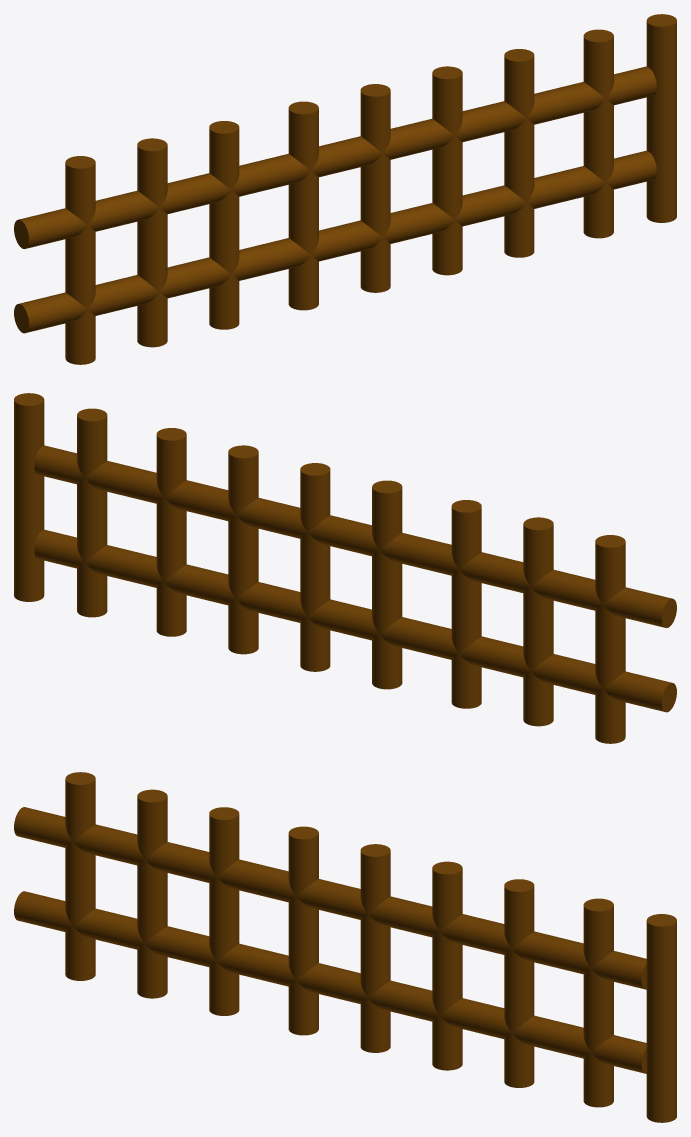
The model's file is CERCA.fbx.
3 views of the same model, one above another, from view 1: azimuth 30°, elevation 25°; view 2: azimuth 150°, elevation 25°; view 3: azimuth 330°, elevation 25° (orthographic).
Parts seen in each view (by area): view 1: Cylinder.009; view 2: Cylinder.009; view 3: Cylinder.009.
Boxes of the visible parts, box(x1,y1,x2,y2) form: Cylinder.009: box(14, 14, 676, 364); Cylinder.009: box(14, 393, 676, 743); Cylinder.009: box(14, 772, 676, 1122).
Size of the model in its own units: 182 by 52.22 by 7.31.
